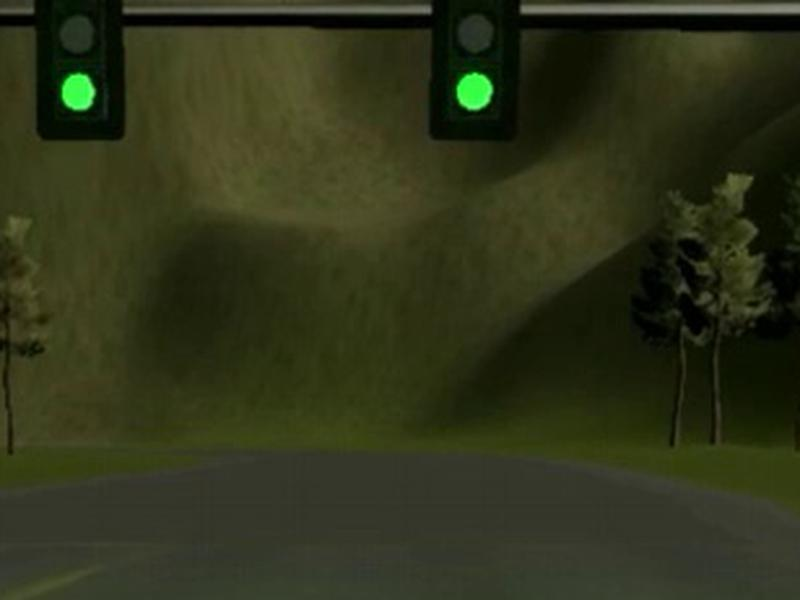Green: (33, 1, 125, 139), (432, 1, 518, 141)
